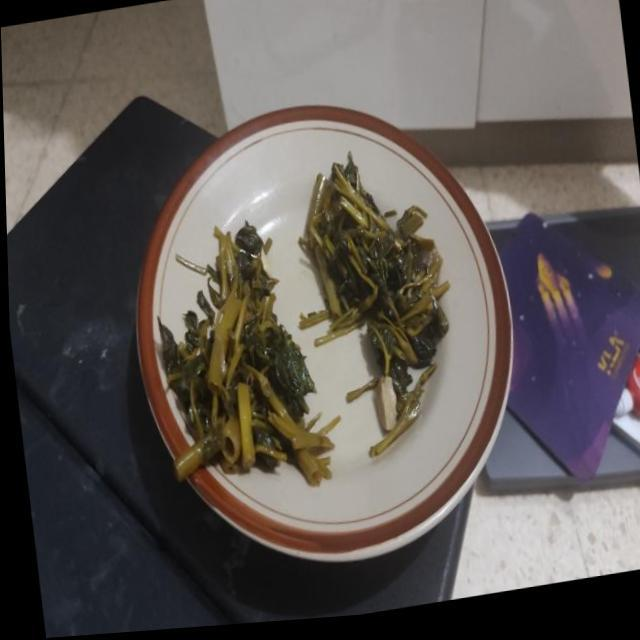tumis_kangkung: (159, 220, 323, 484), (298, 151, 449, 411)
